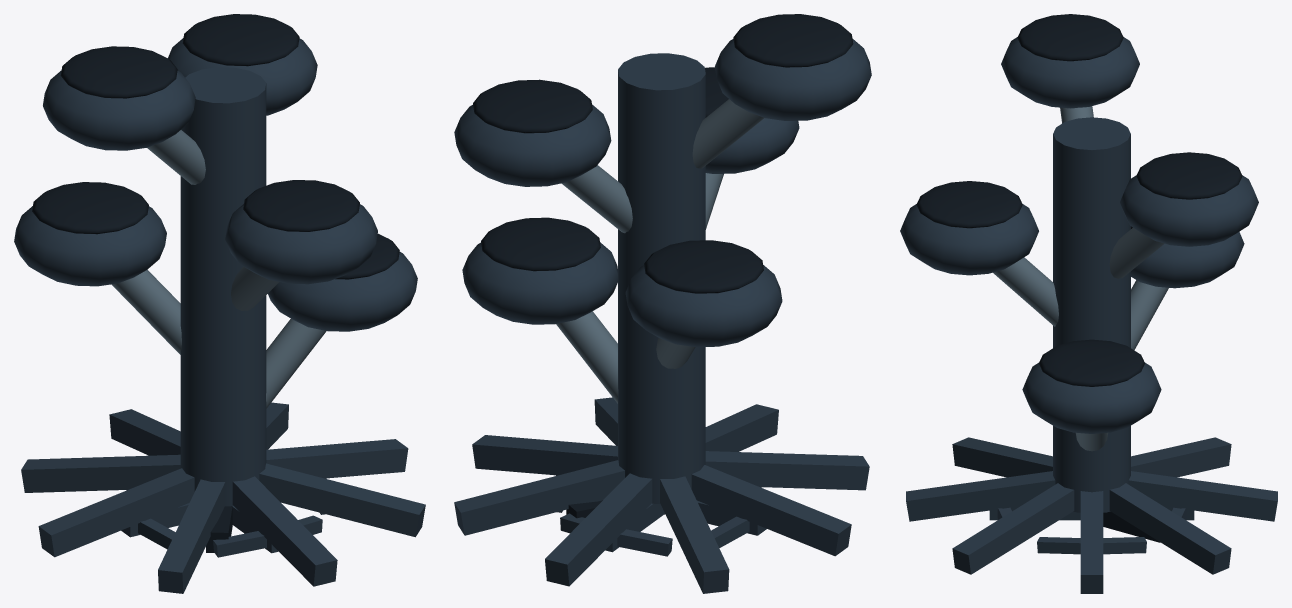
The model's file is CMU3DHiveHiveClusterXeno.glb.
The picture shows the model from 3 angles, left to right: view 1: azimuth 30°, elevation 25°; view 2: azimuth 150°, elevation 25°; view 3: azimuth 270°, elevation 25°; orthographic projection. The views are drawn at different scales.
Parts seen in each view (by area): view 1: fluted hive chimney (×5), anchoring root (×8), central branching trunk, dark chimney throat (×5), raised organ branch (×4), branching ground filament (×2), central ground rhizome, tile-joining root; view 2: fluted hive chimney (×5), anchoring root (×8), central branching trunk, dark chimney throat (×5), raised organ branch (×5), branching ground filament (×2), tile-joining root (×2); view 3: fluted hive chimney (×5), anchoring root (×7), central branching trunk, dark chimney throat (×4), raised organ branch (×3), branching ground filament (×2), central ground rhizome.
Boxes of the visible parts, x1,y1,x2,y2 form: fluted hive chimney (×5): [14, 38, 417, 331]; anchoring root (×8): [21, 402, 425, 593]; central branching trunk: [180, 67, 266, 506]; dark chimney throat (×5): [32, 14, 399, 279]; raised organ branch (×4): [111, 130, 326, 408]; branching ground filament (×2): [138, 518, 266, 557]; central ground rhizome: [206, 506, 232, 552]; tile-joining root: [121, 503, 189, 537]; fluted hive chimney (×5): [454, 38, 871, 347]; anchoring root (×8): [454, 397, 869, 593]; central branching trunk: [618, 53, 705, 503]; dark chimney throat (×5): [473, 14, 853, 293]; raised organ branch (×5): [556, 99, 763, 403]; branching ground filament (×2): [617, 516, 749, 556]; tile-joining root (×2): [605, 500, 766, 552]; fluted hive chimney (×5): [900, 37, 1258, 433]; anchoring root (×7): [906, 437, 1277, 593]; central branching trunk: [1053, 117, 1130, 512]; dark chimney throat (×4): [916, 14, 1242, 386]; raised organ branch (×3): [993, 227, 1168, 350]; branching ground filament (×2): [1037, 537, 1146, 554]; central ground rhizome: [1103, 511, 1160, 542].
Bounding box in the file's own units: 0.9354 × 1.18 × 0.9231.
